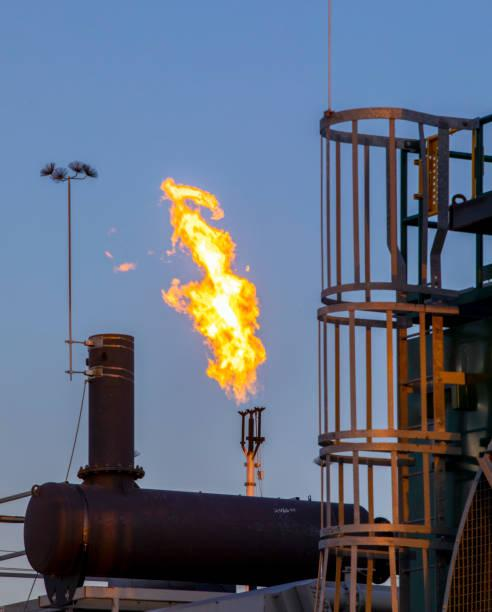Fire: (169, 178, 268, 402)
